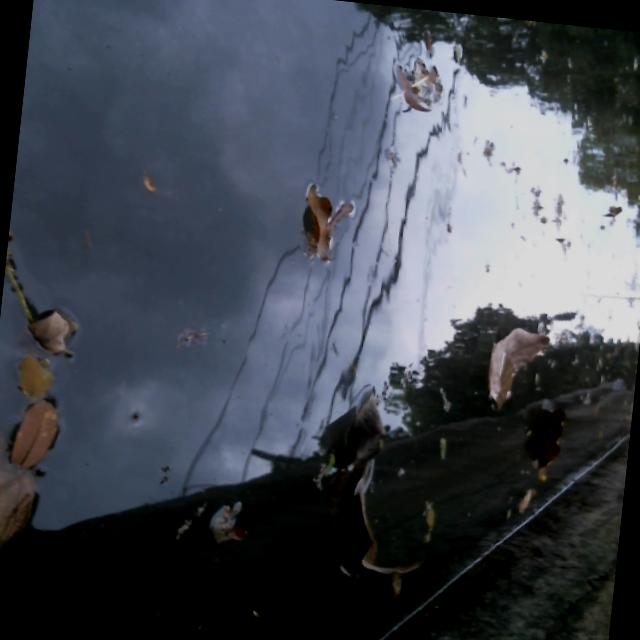Big-leaf: (321, 476, 435, 593), (478, 321, 551, 418), (331, 384, 394, 475), (0, 438, 37, 590), (526, 409, 570, 484)
Small-leaf: (0, 293, 99, 363), (6, 399, 61, 478), (385, 56, 445, 119), (192, 496, 261, 548), (4, 352, 71, 405), (293, 178, 336, 259), (498, 481, 541, 522), (162, 321, 217, 349), (593, 200, 625, 230), (132, 168, 162, 198), (431, 434, 453, 461)
